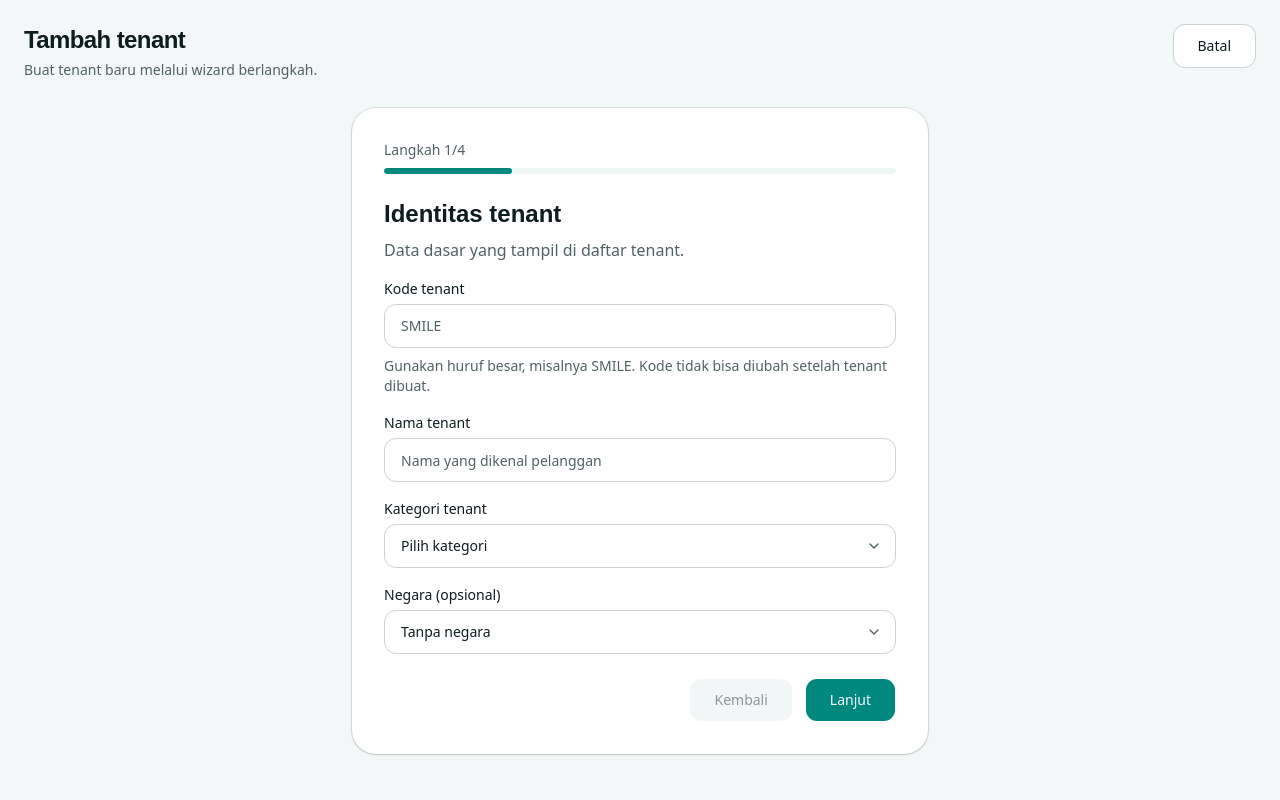
Scenario: TenantCreatePage steps (D9) › blocks the first step when the code is already taken, until the code is changed
Step 1. Type "smile" into the field labelled "Kode tenant" → (640, 326), box [384, 304, 896, 348]
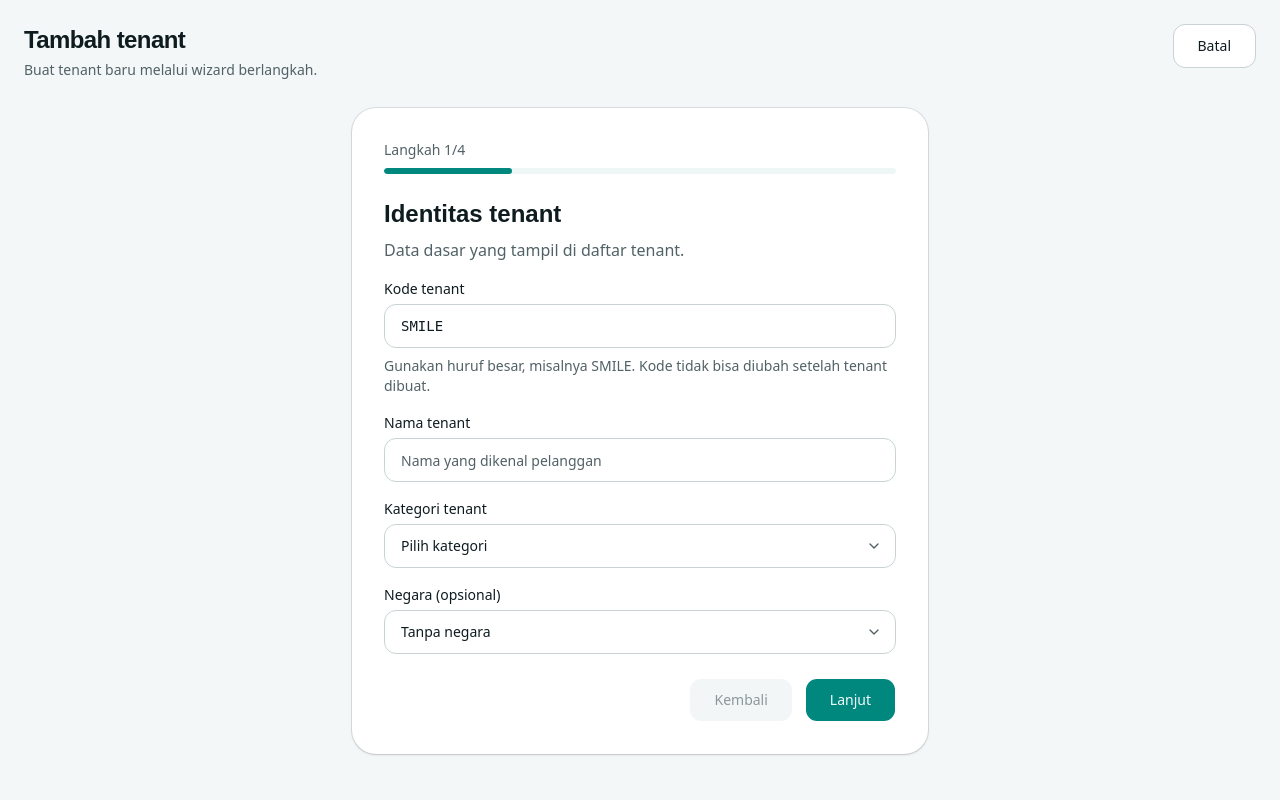
Step 2. Type "Another Smile" into the field labelled "Nama tenant" → (640, 460), box [384, 438, 896, 482]
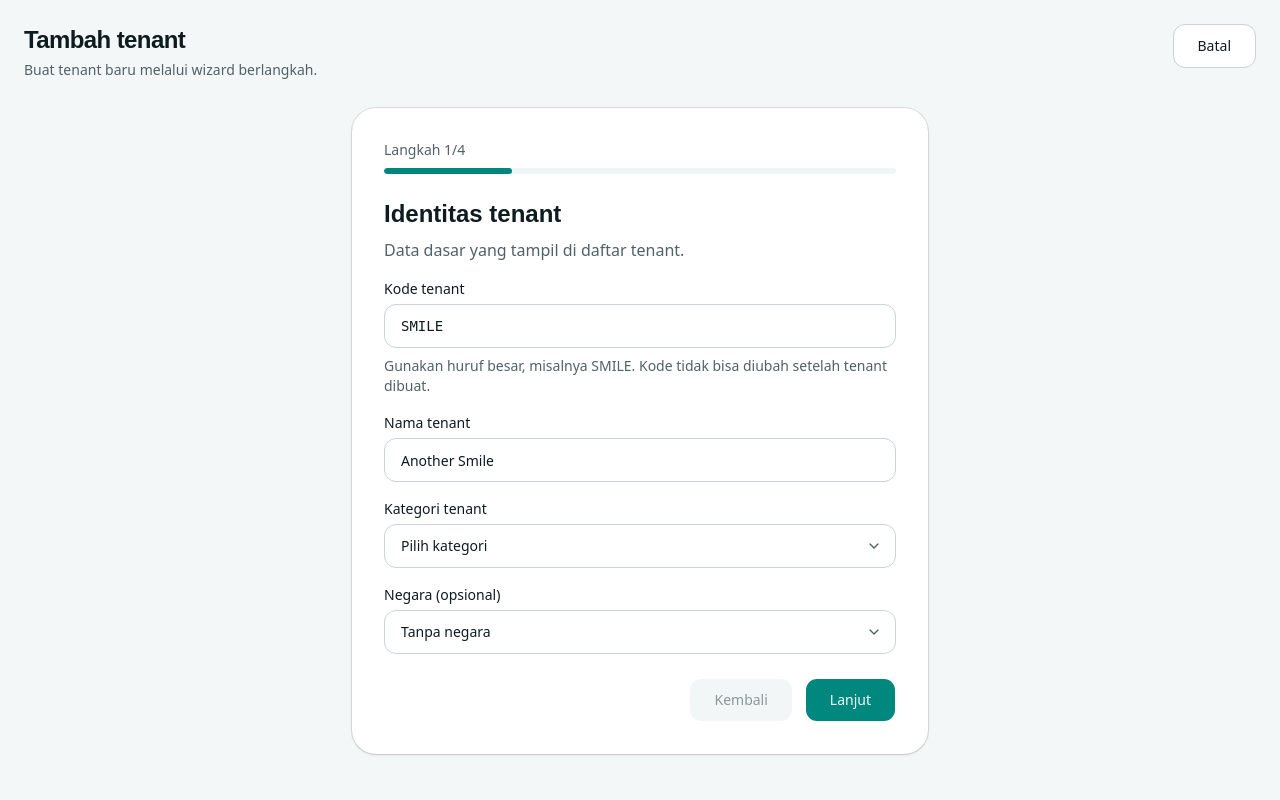
Step 3. Select "Dental Clinic" in the dropdown labelled "Kategori tenant" → (640, 546), box [384, 524, 896, 568]
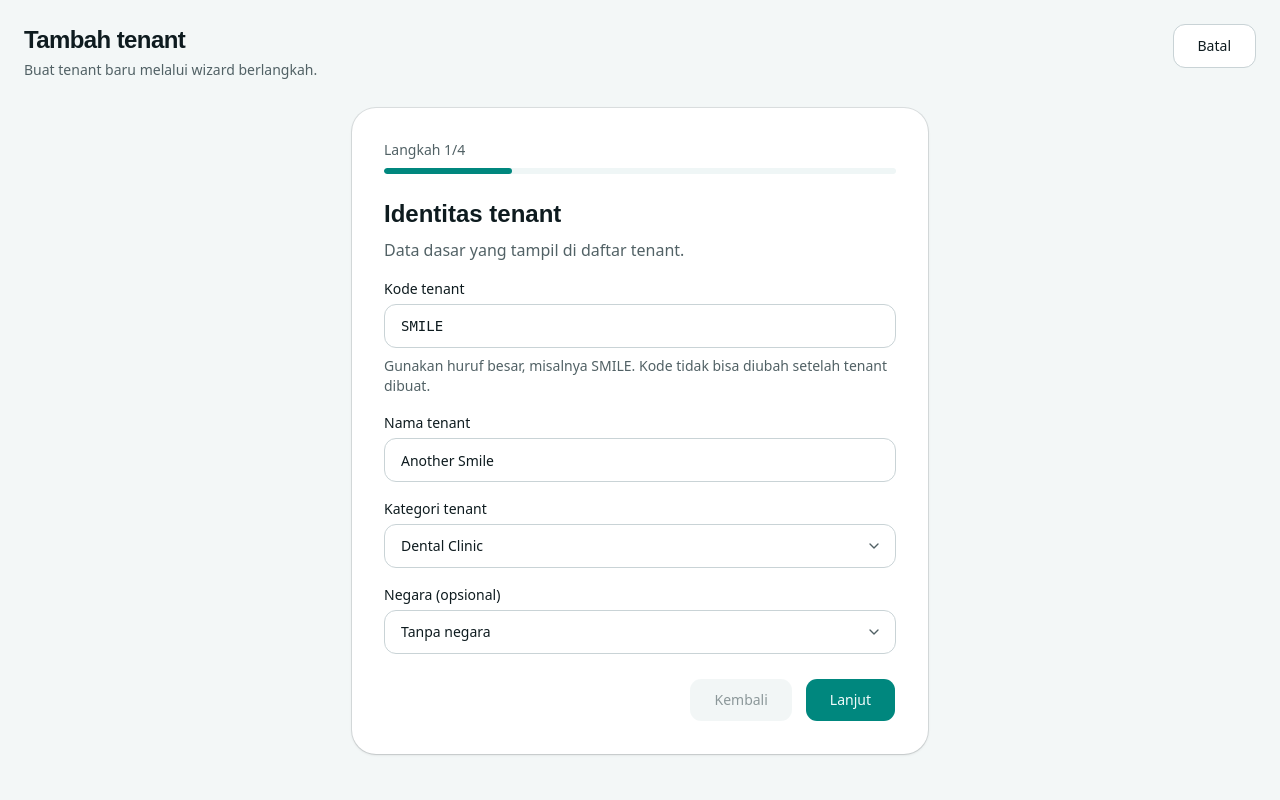
Step 4. Click the button "Lanjut" → (850, 700), box [805, 678, 896, 722]
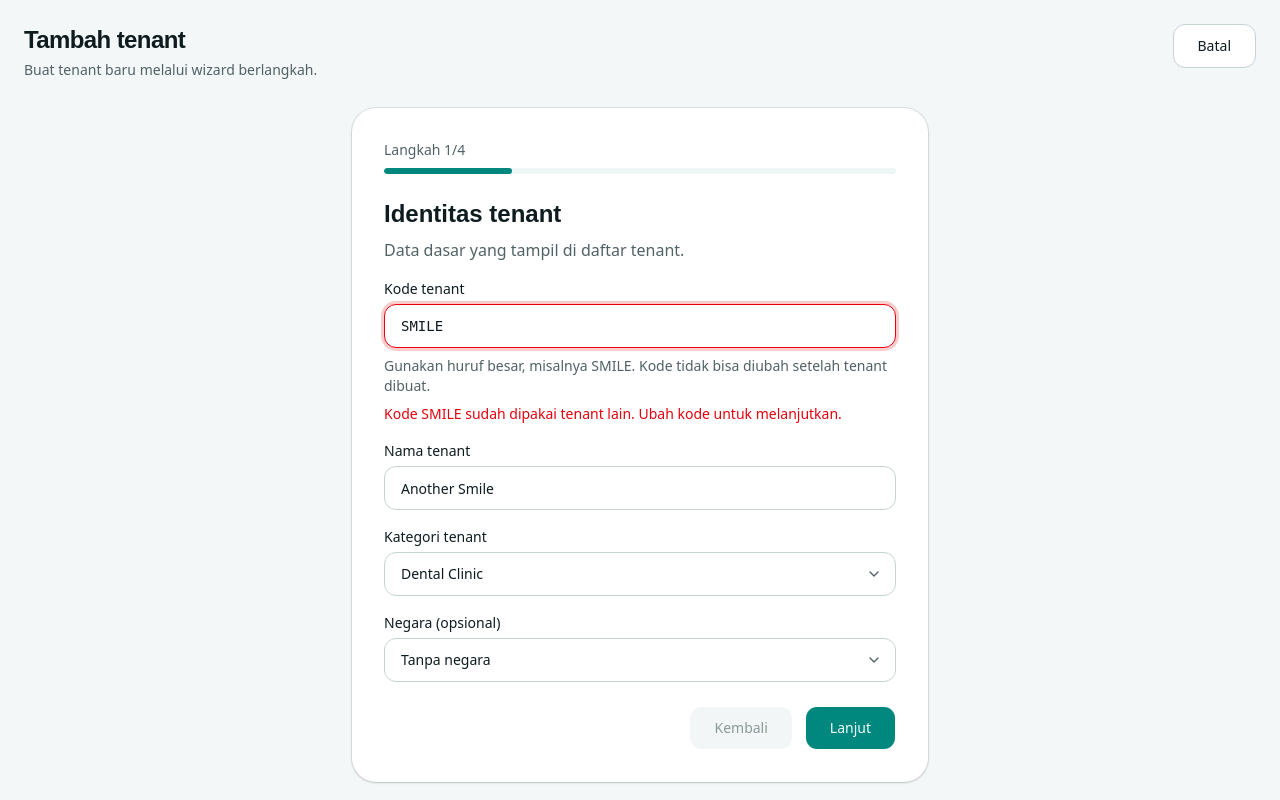
Expected: the text "Tipe penyebaran" is not shown
Now the text "Kode SMILE sudah dipakai tenant lain" is shown, box [384, 404, 842, 423]
Step 5. Type "NEWCO" into the field labelled "Kode tenant" → (640, 326), box [384, 304, 896, 348]
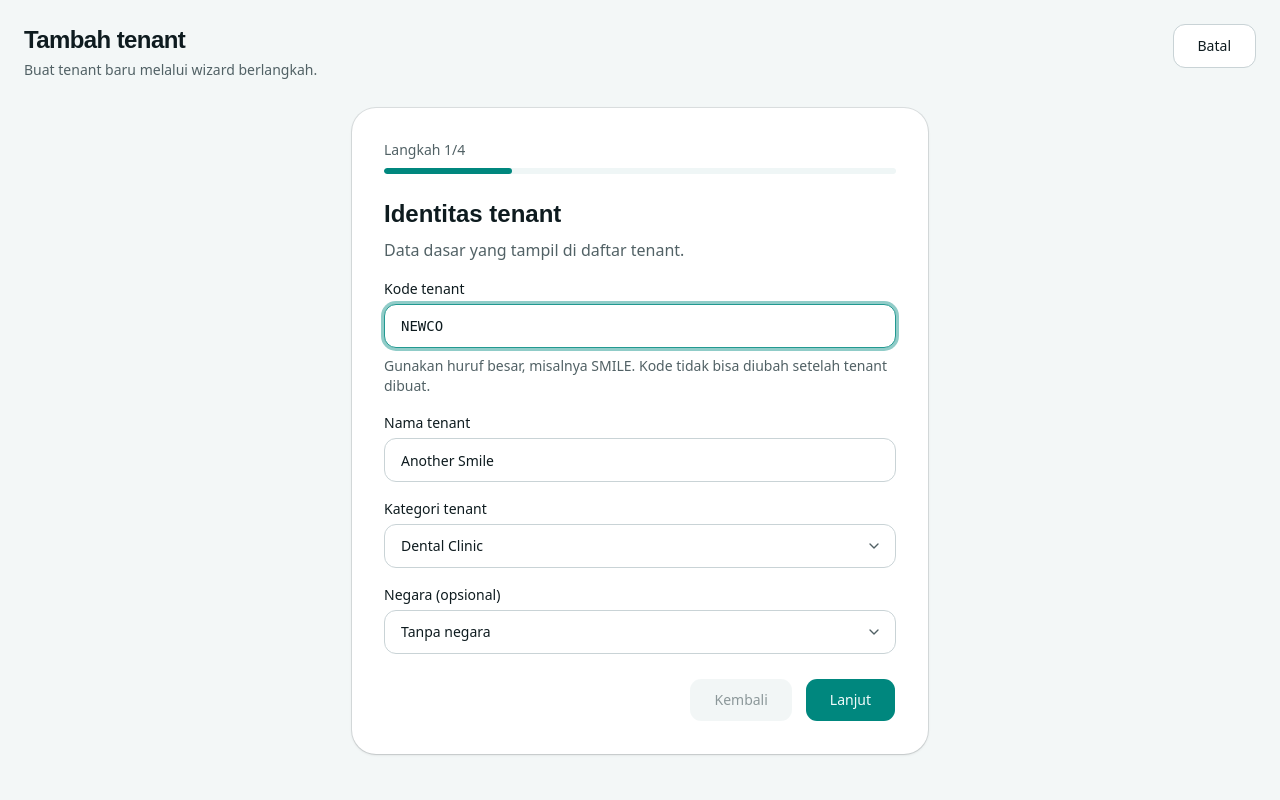
Now the text "sudah dipakai tenant lain" is gone
Step 6. Click the button "Lanjut" → (850, 700), box [805, 678, 896, 722]
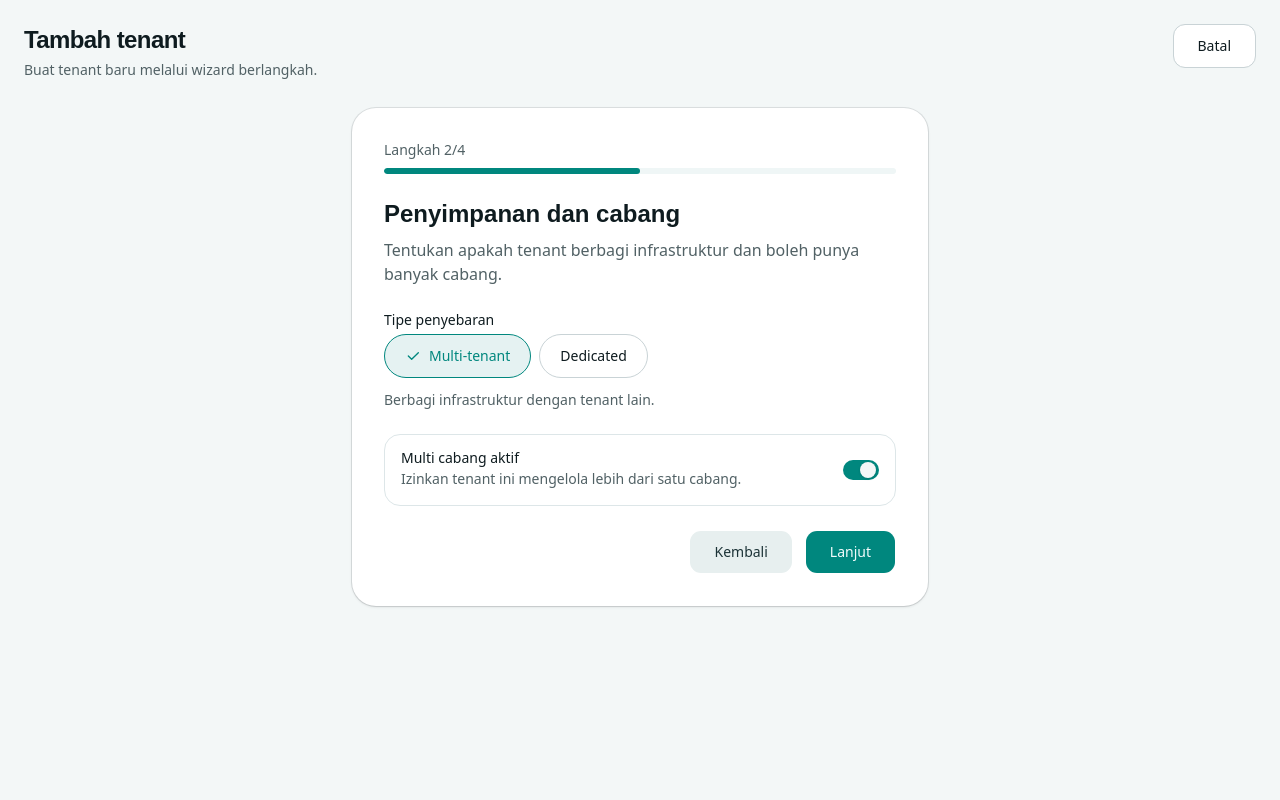
Now the text "Tipe penyebaran" is shown, box [384, 310, 494, 330]
